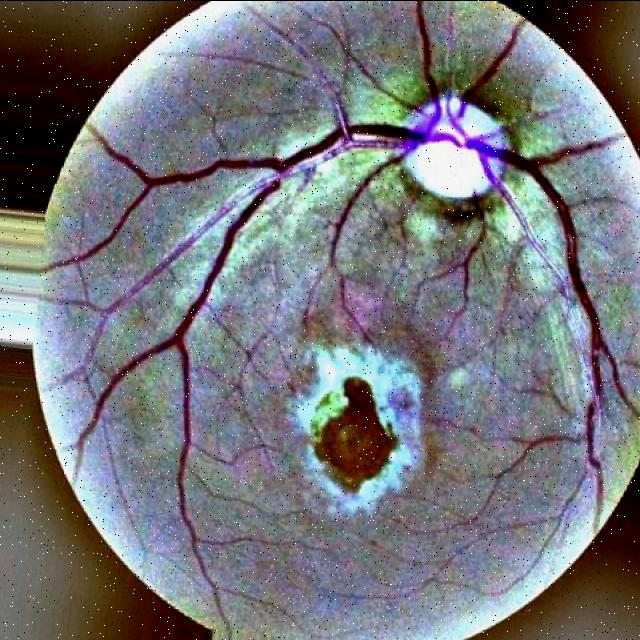Macula: (315, 377, 396, 491)
Nerves: (45, 21, 523, 588), (469, 137, 627, 399), (52, 203, 231, 333), (490, 175, 541, 253), (415, 0, 440, 101)
Optic Disk: (403, 91, 507, 197)
